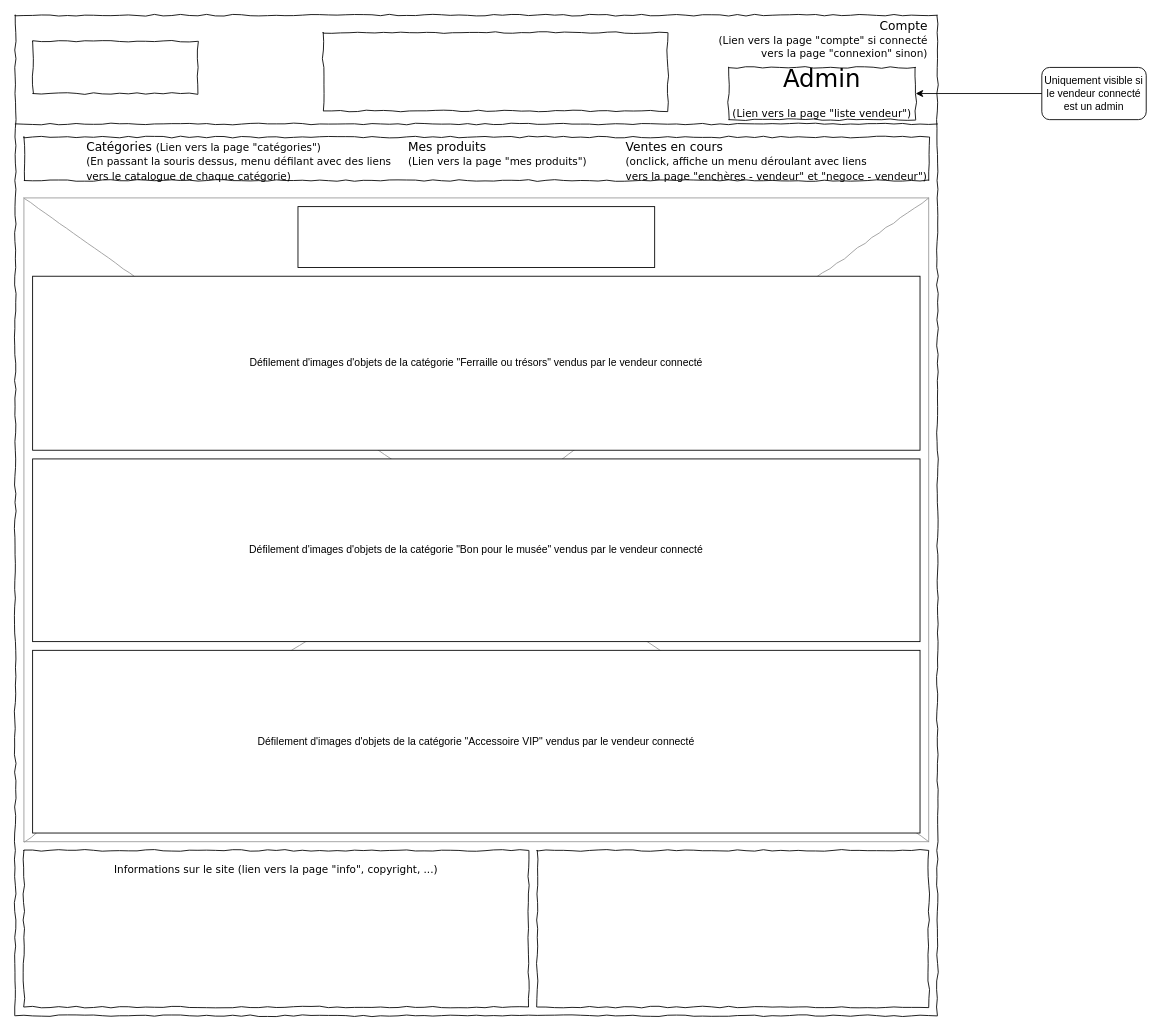
Image size: 1161x1031. Some labels were removed from this diagram. Each missing label, with the centre of its shape:
Bienvenue ...: point 495,71
LOGO (Lien vers la page "accueil"): point 115,67
Nous contacter: point 732,928
V os produits: point 476,237
